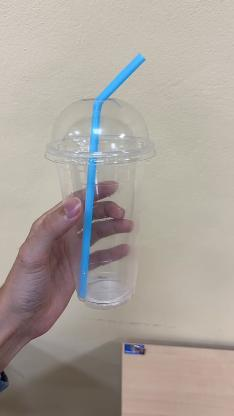Plastic Cup: (43, 96, 157, 308)
